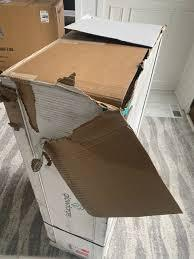damage_box: (3, 13, 184, 257)
